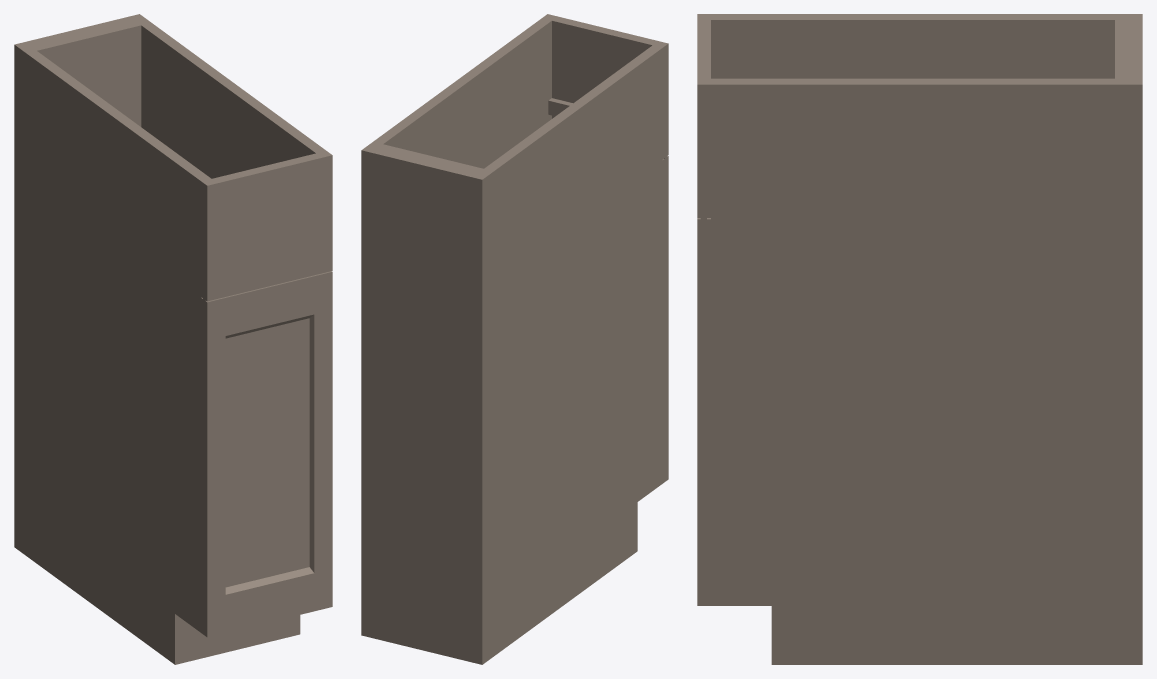
Rendered from Base-Cabinet-Wastebasket-24-Deep_std_001_W9in_1D.glb.
The picture shows the model from 3 angles, left to right: view 1: azimuth 30°, elevation 25°; view 2: azimuth 150°, elevation 25°; view 3: azimuth 270°, elevation 25°; orthographic projection. The views are drawn at different scales.
Visible parts, largest first — view 1: Base-Cabinet-Wastebasket-24-Deep.std.001_W9in_1D; view 2: Base-Cabinet-Wastebasket-24-Deep.std.001_W9in_1D; view 3: Base-Cabinet-Wastebasket-24-Deep.std.001_W9in_1D.
Boxes of the visible parts, bbox=[...] form: Base-Cabinet-Wastebasket-24-Deep.std.001_W9in_1D: bbox=[14, 14, 332, 664]; Base-Cabinet-Wastebasket-24-Deep.std.001_W9in_1D: bbox=[361, 14, 668, 664]; Base-Cabinet-Wastebasket-24-Deep.std.001_W9in_1D: bbox=[697, 14, 1142, 664].
Bounding box in the file's own units: 0.2286 × 0.8763 × 0.6096.
